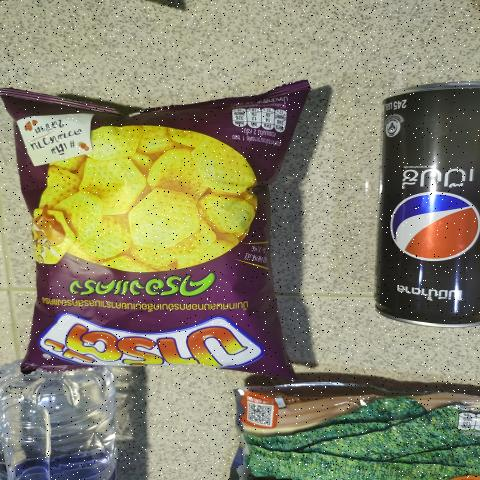party_purple: (29, 110, 274, 368)
pepsi_black: (371, 84, 480, 331)
